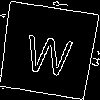W: (23, 25, 76, 77)
